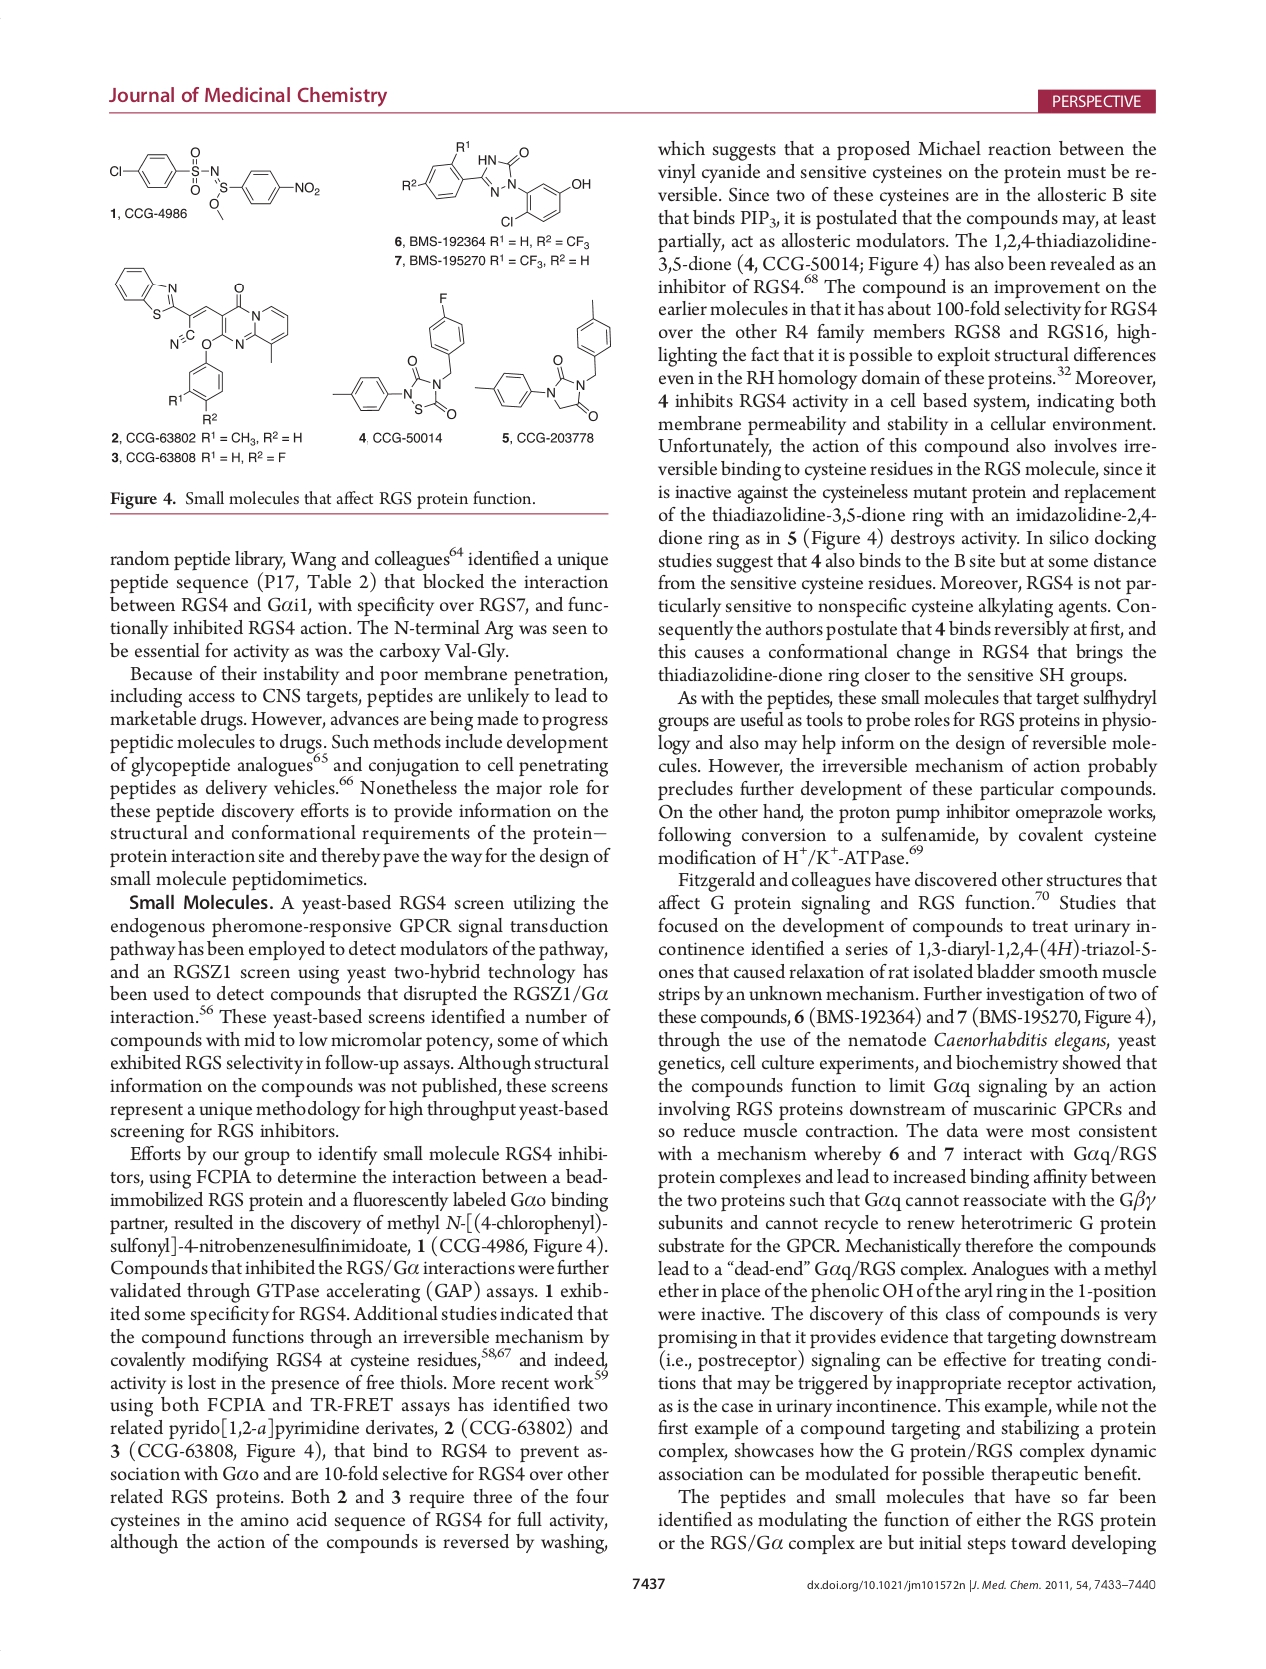exist_molecular: (110, 261, 291, 428), (331, 289, 467, 423), (399, 137, 594, 230), (472, 298, 614, 426), (106, 142, 320, 219)
